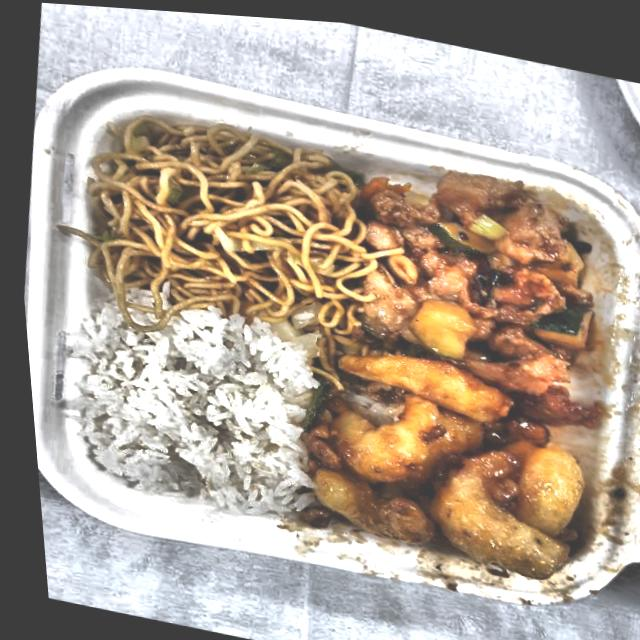Food: (286, 326, 606, 587), (334, 147, 628, 412), (68, 95, 380, 342), (51, 286, 324, 523)
